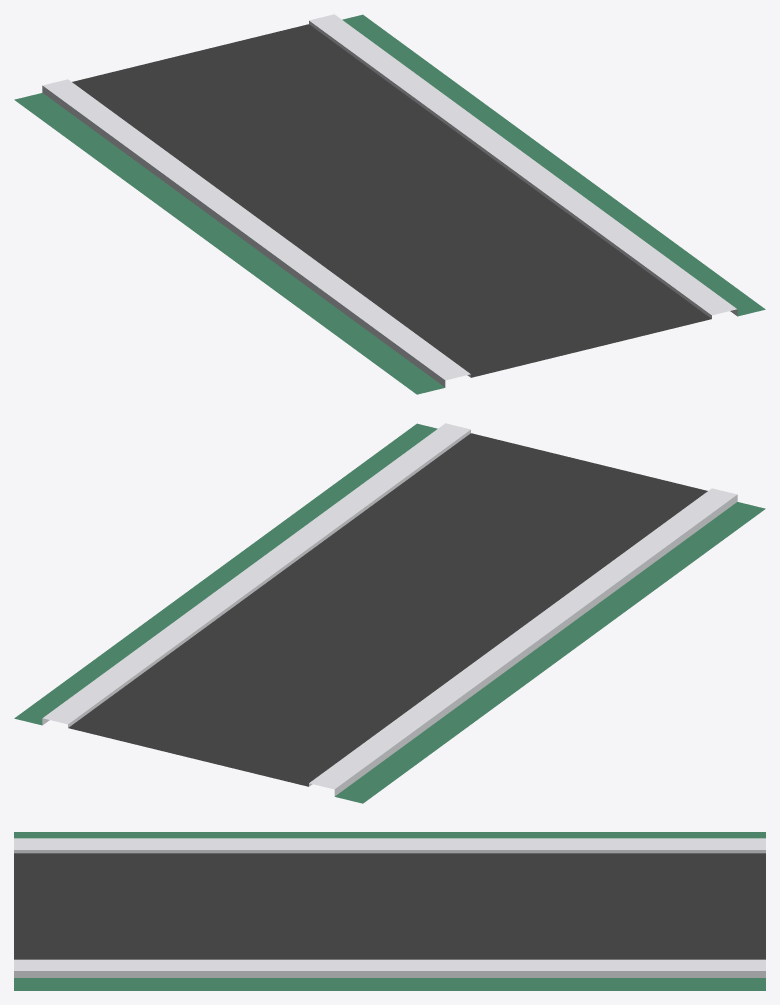
File: roadStraightLong.obj
3 renders of one model, top to bottom at view 1: azimuth 30°, elevation 25°; view 2: azimuth 150°, elevation 25°; view 3: azimuth 270°, elevation 25°, orthographic. The views are drawn at different scales.
Parts seen in each view (by area): view 1: roadStraightLong; view 2: roadStraightLong; view 3: roadStraightLong.
Boxes of the visible parts, x1,y1,x2,y2 form: roadStraightLong: (14,14,765,394); roadStraightLong: (14,423,765,803); roadStraightLong: (14,832,765,990).
Bounding box in the file's own units: 1 × 0.02 × 2.
